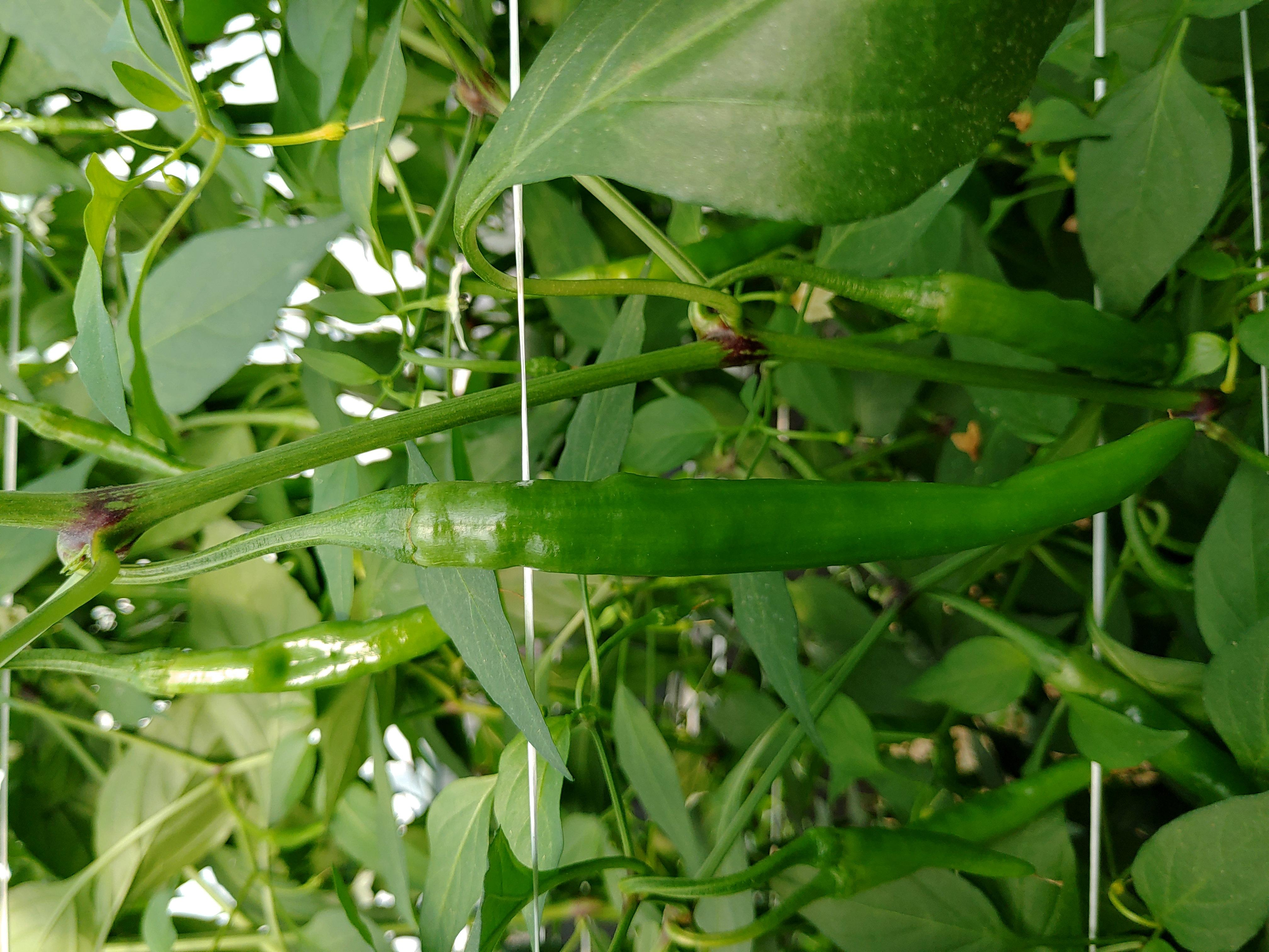Buah Cabai Sehat: (351, 411, 1208, 581)
